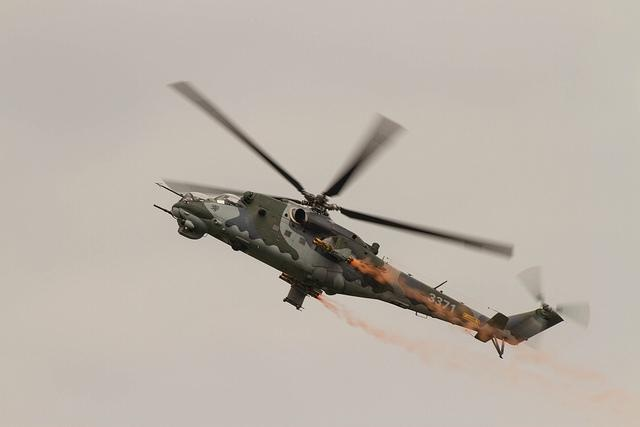airplane: (141, 68, 594, 363)
